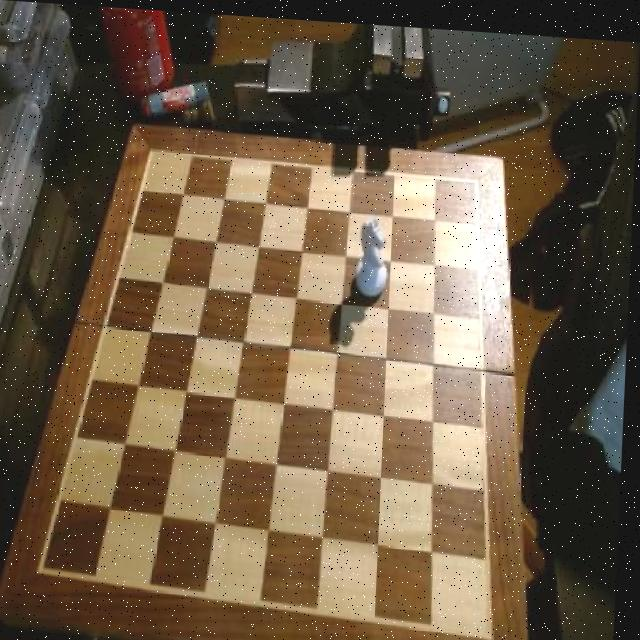white-king: (356, 210, 393, 295)
